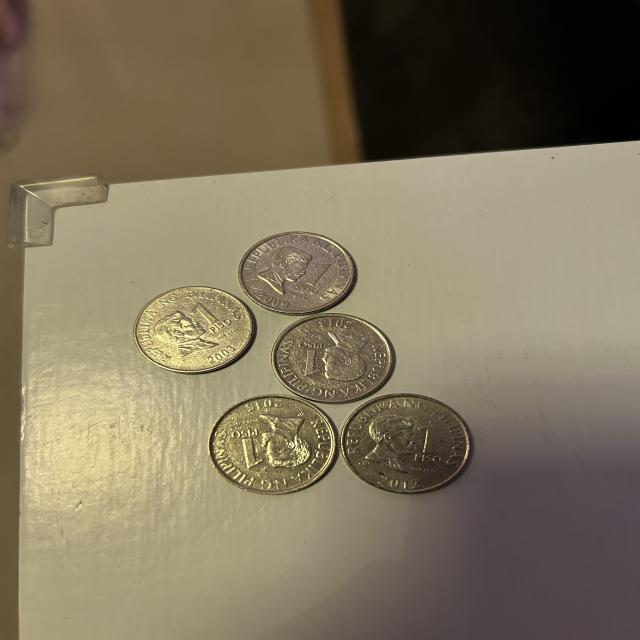1_Old_Front: (223, 423, 270, 476), (408, 424, 448, 472), (190, 303, 239, 337), (305, 257, 341, 295), (296, 340, 328, 370)
